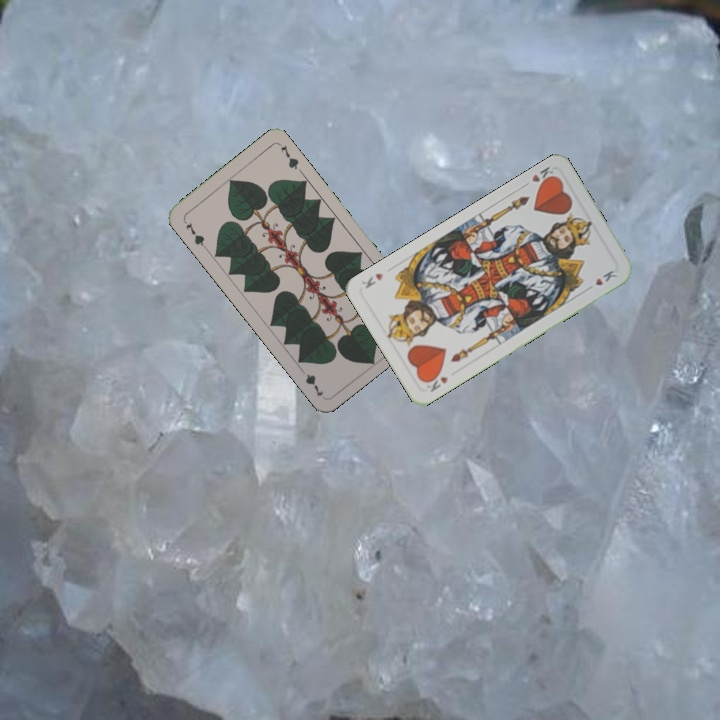G7: (180, 216, 209, 251)
HK: (519, 162, 558, 190), (420, 368, 451, 395)
